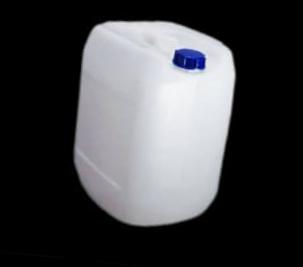Plastik: (73, 22, 235, 226)
